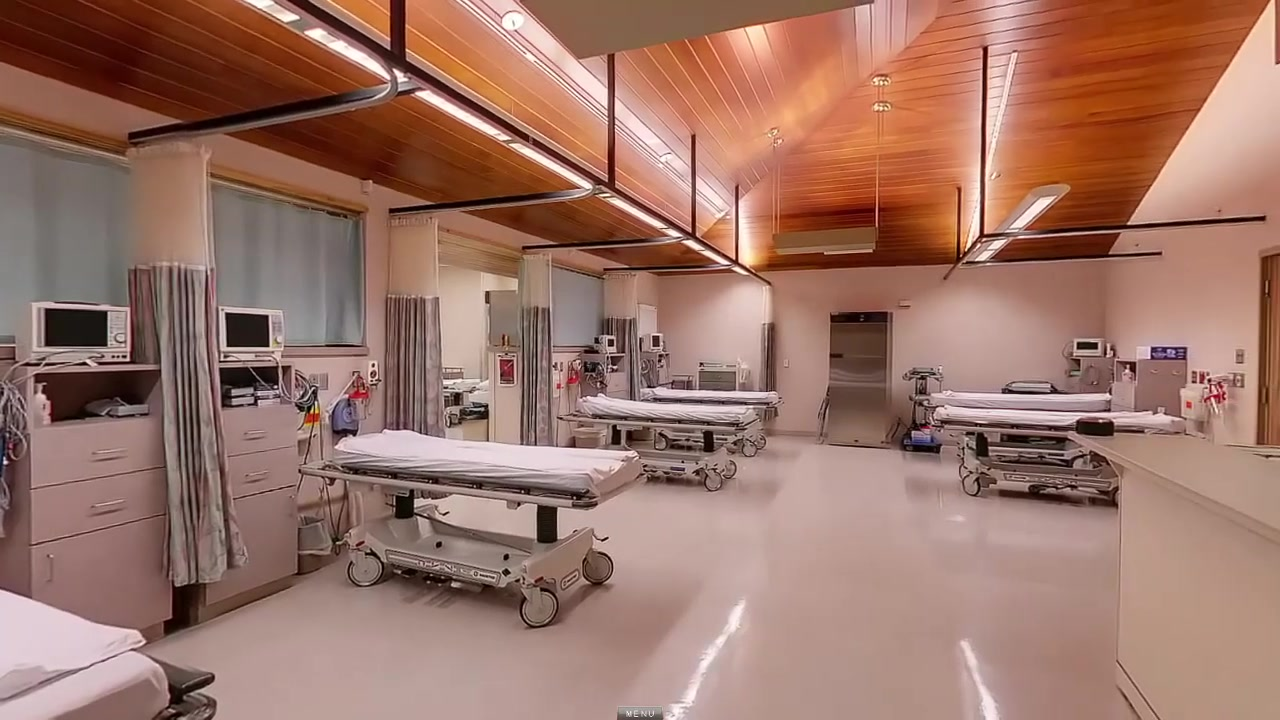bedside_monitor: (17, 301, 131, 366), (213, 305, 287, 360), (593, 335, 619, 353), (642, 334, 664, 354)
counter: (1069, 417, 1280, 720)
countertop: (1070, 417, 1280, 542)
curtain: (126, 141, 248, 590), (387, 208, 444, 440), (516, 252, 555, 446), (601, 272, 641, 401), (759, 286, 779, 420)
drawer: (1112, 359, 1188, 412)
handle: (90, 446, 131, 456), (44, 553, 57, 582), (90, 499, 125, 508), (242, 469, 270, 478), (242, 428, 267, 435), (1170, 368, 1183, 377), (1148, 368, 1160, 376)
hospital_bed: (297, 427, 647, 628), (1, 582, 222, 717), (933, 404, 1185, 508), (556, 392, 761, 491), (644, 387, 785, 456), (921, 388, 1114, 412)
medical_drawer: (5, 361, 174, 646), (212, 355, 299, 617), (695, 361, 743, 391)
medical_waste_container: (1180, 384, 1213, 421)
